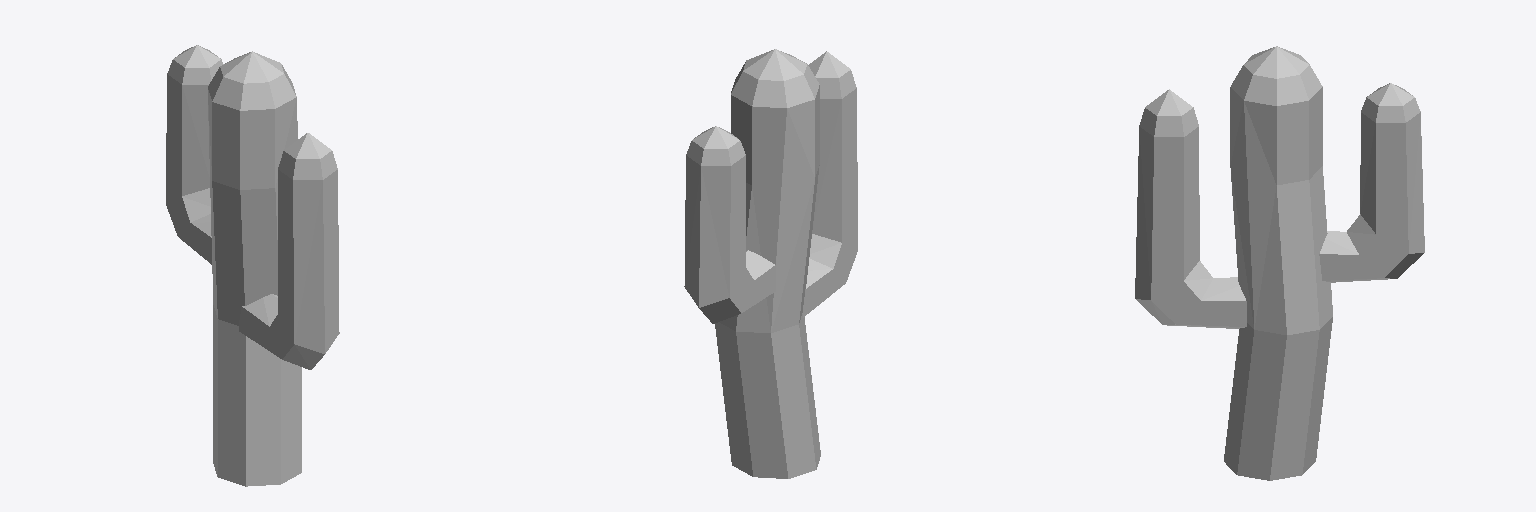
Rendered from Cactus.obj.
The picture shows the model from 3 angles: view 1: azimuth 30°, elevation 25°; view 2: azimuth 150°, elevation 25°; view 3: azimuth 270°, elevation 25°; orthographic projection.
Visible parts, largest first — view 1: Cactus; view 2: Cactus; view 3: Cactus.
Part boxes in pixels (bbox=[...]): Cactus: bbox=[166, 45, 339, 486]; Cactus: bbox=[684, 49, 857, 478]; Cactus: bbox=[1135, 46, 1424, 480].
Size of the model in its own units: 1.56 by 6.79 by 4.31.